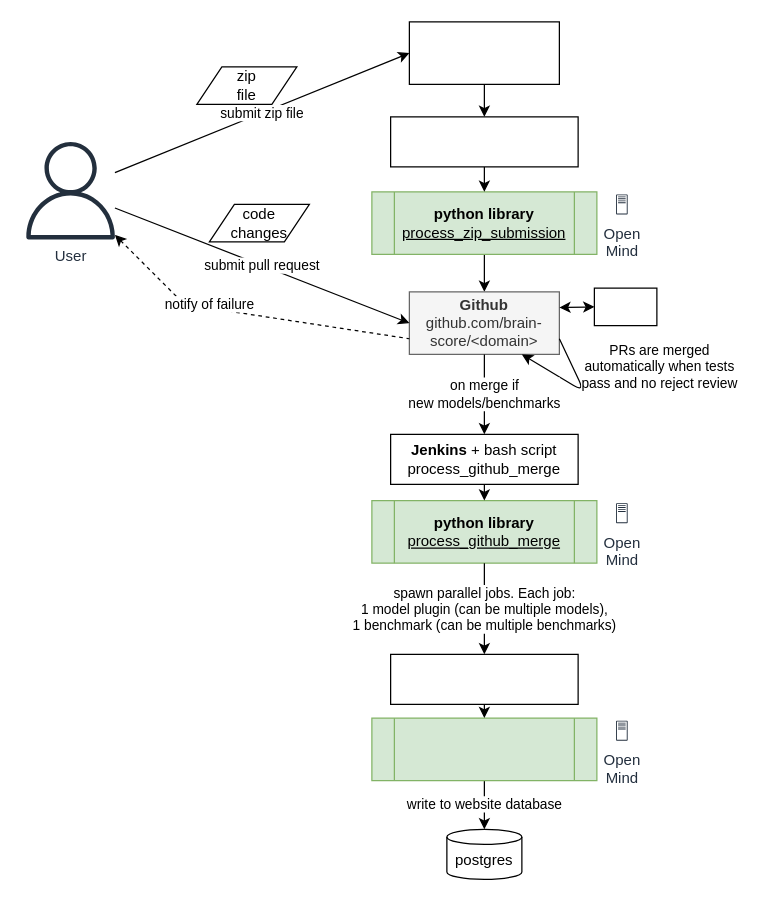
This 759x901 diagram has some shape labels left out. The shapes that lost their labels are listed below. From the top down, each one's box as (x1, y1, x2, y2) in pixels, then its label:
(408, 21, 559, 84): Website brain-score.org
(389, 116, 578, 167): Jenkins + bash script process_zip_submission
(593, 287, 657, 326): Travis
(389, 653, 578, 704): Jenkins + bash script run_score
(371, 717, 597, 781): python library run_score
